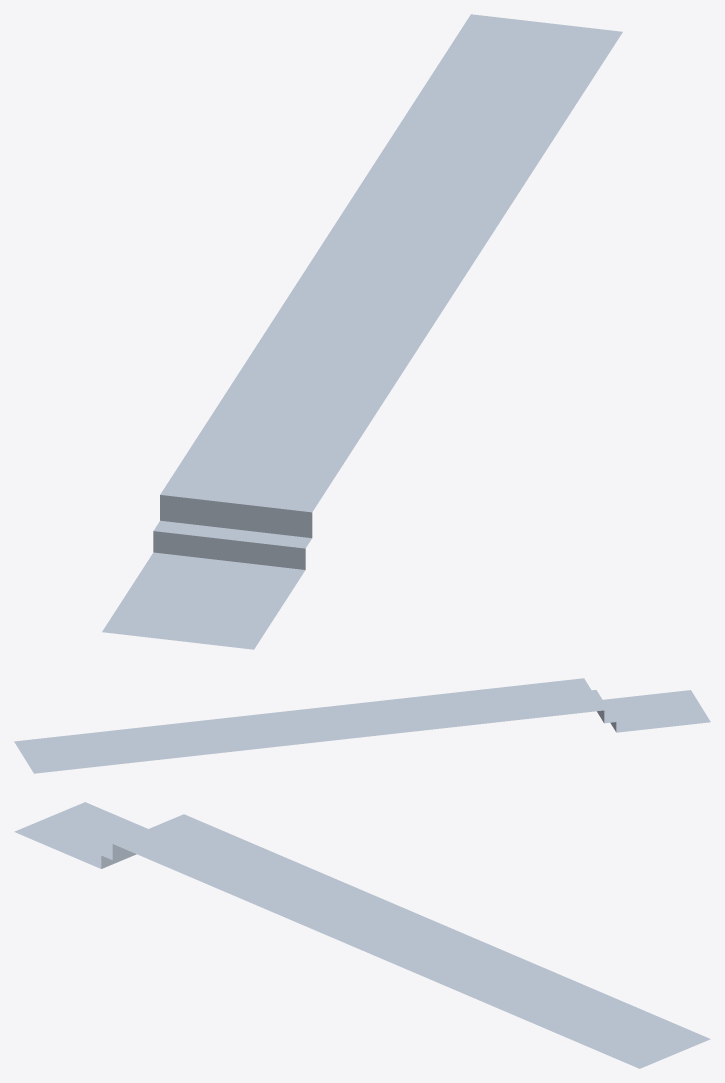
Rendered from passerelle grille 1 01.fbx.
The picture shows the model from 3 angles, top to bottom: view 1: azimuth 30°, elevation 25°; view 2: azimuth 150°, elevation 25°; view 3: azimuth 270°, elevation 25°; orthographic projection. The views are drawn at different scales.
Visible parts, largest first — view 1: Cube.487; view 2: Cube.487; view 3: Cube.487.
Boxes of the visible parts, <box> form: Cube.487: <box>102,14,622,649</box>; Cube.487: <box>14,678,710,773</box>; Cube.487: <box>14,802,710,1068</box>.
Size of the model in its own units: 2418 by 114 by 2399.
